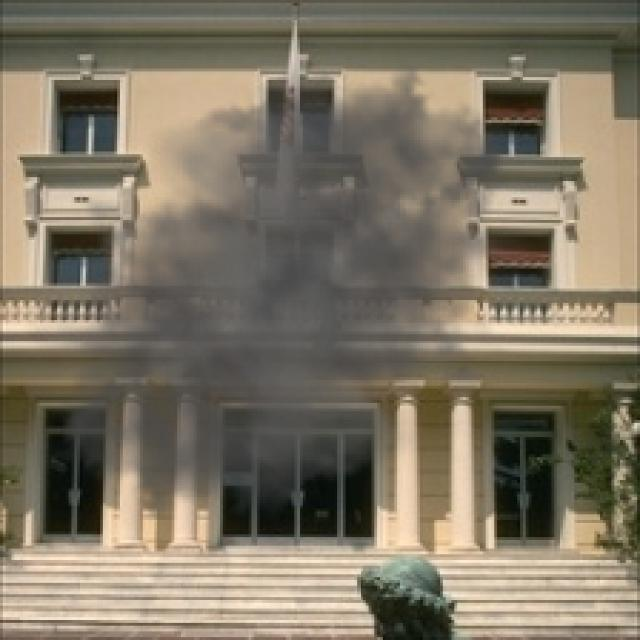Smoke: (23, 32, 543, 554)
